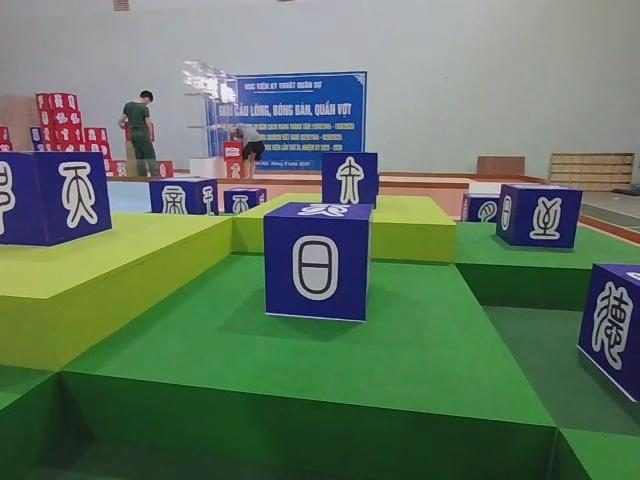R2 Fake Blue: (265, 204, 377, 325), (0, 153, 113, 250), (580, 263, 640, 409), (500, 184, 586, 251), (322, 151, 381, 209), (152, 179, 220, 218), (461, 194, 503, 224), (221, 189, 264, 215)
